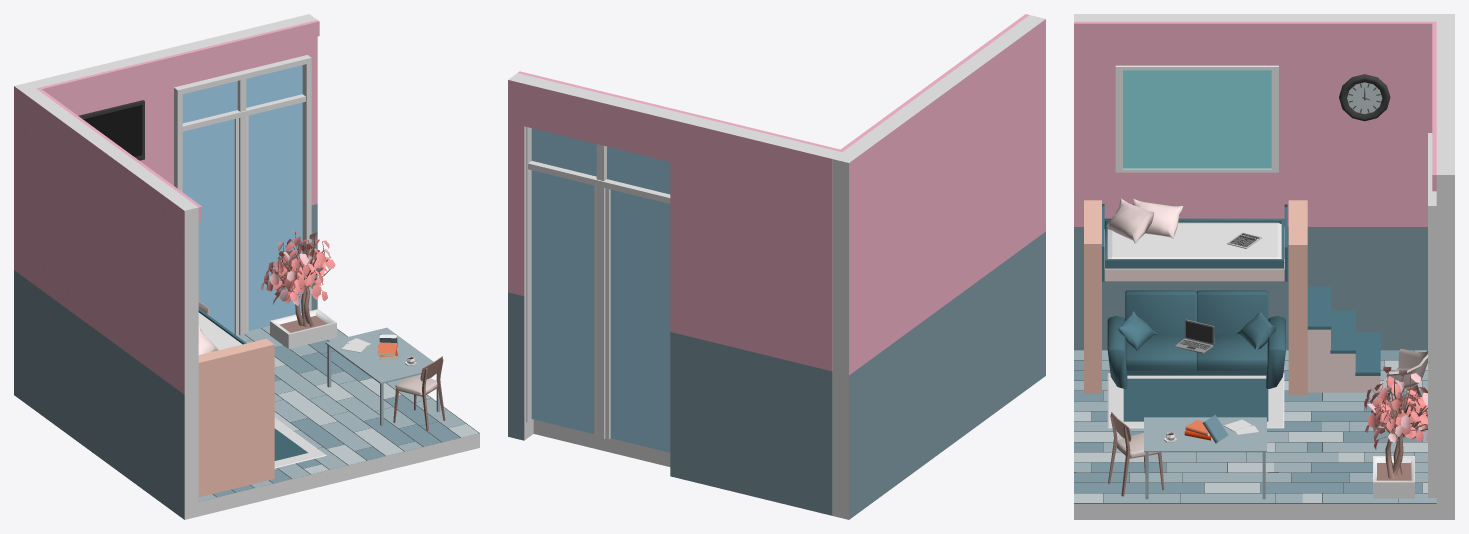
Rendered from room_11.glb.
The picture shows the model from 3 angles, left to right: view 1: azimuth 30°, elevation 25°; view 2: azimuth 150°, elevation 25°; view 3: azimuth 270°, elevation 25°; orthographic projection. The views are drawn at different scales.
Parts seen in each view (by area): view 1: Walls_158.002, window_009.001, Walls_116.011, floor_010.002, bed_018.001, Walls_158.001, Walls_011.006, flower_017.001, Walls_159.001, Walls_158.004, kitchen_table_007.003, electronics_027.003 (+4 smaller); view 2: Walls_158.002, window_009.001, Walls_158.001, Walls_116.011, Walls_116.012, Walls_158.004, Walls_158.003, Walls_116.010, Walls_011.006, Walls_159.001, Walls_159.002; view 3: Walls_158.002, bed_018.001, floor_010.002, picture_041.003, Walls_116.011, sofa_022.001, Walls_011.006, carpet_004.003, Walls_159.002, flower_017.001, Walls_158.003, kitchen_table_007.003 (+10 smaller).
Boxes of the visible parts, x1,y1,x2,y2 form: Walls_158.002: (14,82,198,394); window_009.001: (174,55,311,335); Walls_116.011: (14,270,198,519); floor_010.002: (198,326,478,501); bed_018.001: (198,308,274,497); Walls_158.001: (28,48,176,185); Walls_011.006: (198,328,479,516); flower_017.001: (260,229,336,348); Walls_159.001: (36,20,319,99); Walls_158.004: (169,17,303,86); kitchen_table_007.003: (325,327,440,425); electronics_027.003: (78,100,144,160); Walls_158.002: (833,15,1045,375); window_009.001: (526,127,670,452); Walls_158.001: (670,112,841,371); Walls_116.011: (833,231,1045,519); Walls_116.012: (670,332,832,515); Walls_158.004: (524,77,679,161); Walls_158.003: (508,73,532,295); Walls_116.010: (508,292,533,440); Walls_011.006: (533,419,670,466); Walls_159.001: (518,71,843,151); Walls_159.002: (841,14,1029,150); Walls_158.002: (1074,14,1454,226); bed_018.001: (1084,198,1380,394); floor_010.002: (1074,350,1436,502); picture_041.003: (1115,65,1278,172); Walls_116.011: (1074,227,1427,350); sofa_022.001: (1107,290,1285,388); Walls_011.006: (1074,350,1436,519); carpet_004.003: (1107,373,1284,428); Walls_159.002: (1074,21,1432,39); flower_017.001: (1364,366,1427,498); Walls_158.003: (1436,167,1454,380); kitchen_table_007.003: (1144,417,1266,499).
Bounding box in the file's own units: 4.2 × 4.2 × 4.2.
Materials: 1 (1 with a texture image).
